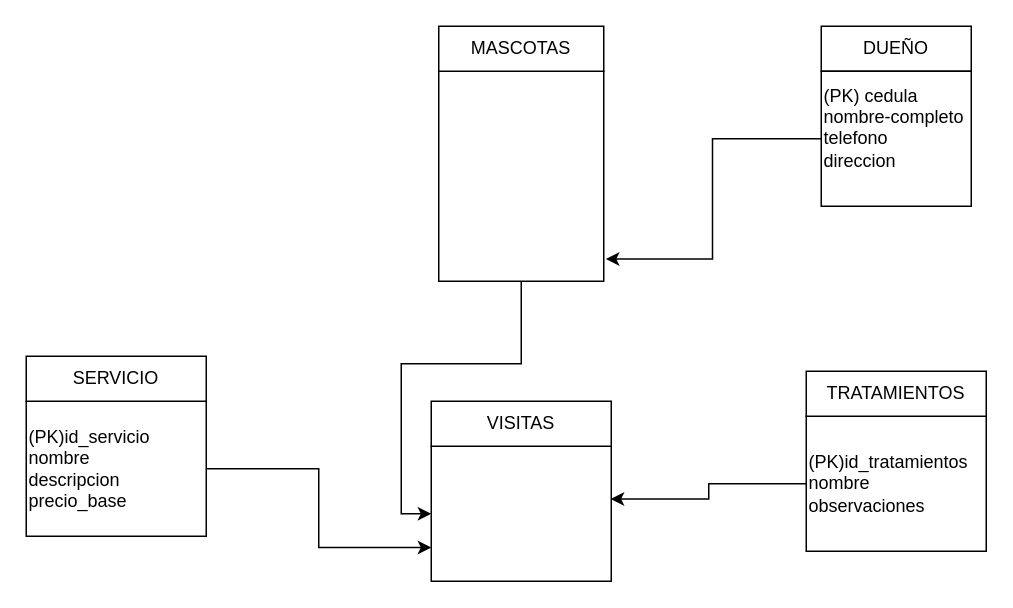
Image size: 1013x608. Some labels were removed from this diagram. Each missing label, with the centre of its shape:
"(PK)id_mascotas nombre especie raza sexo edad vacunacion (FK)cedula" goes at point 520,175.
"(PK)id_visita (FK)id_tratamientos (FK)id_mascotas (FK)id_servicio" goes at point 520,513.
